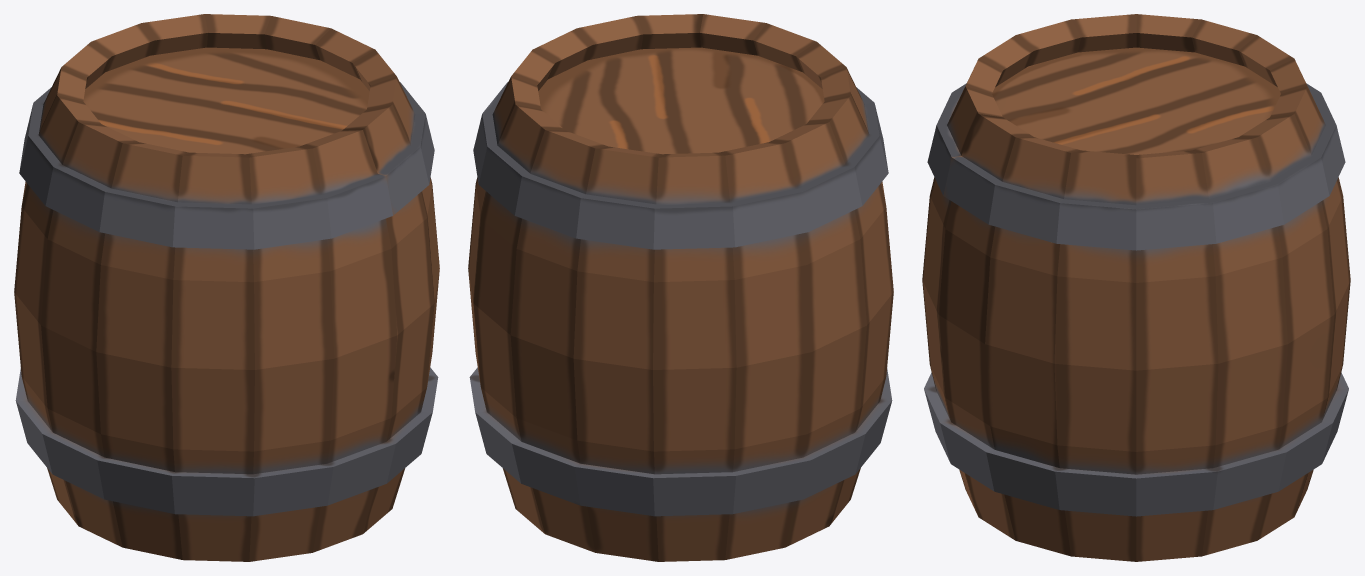
Rendered from barel.glb.
The picture shows the model from 3 angles, left to right: view 1: azimuth 30°, elevation 25°; view 2: azimuth 150°, elevation 25°; view 3: azimuth 270°, elevation 25°; orthographic projection.
Visible parts, largest first — view 1: Cylinder; view 2: Cylinder; view 3: Cylinder.
Part boxes in pixels (box(x1,y1,x2,y2)): Cylinder: box(14, 14, 439, 561); Cylinder: box(468, 14, 893, 561); Cylinder: box(922, 14, 1350, 561).
Size of the model in its own units: 0.9857 by 1.02 by 0.9857.
Materials: 1 (1 with a texture image).
